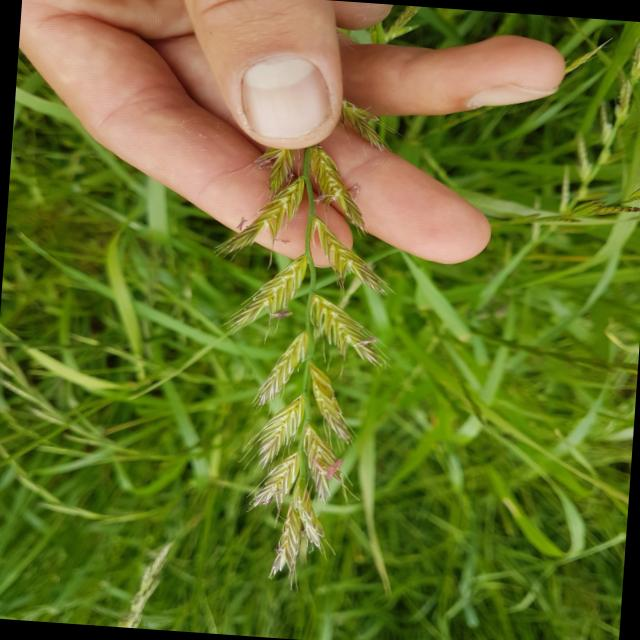Lolium: (188, 93, 410, 598)
